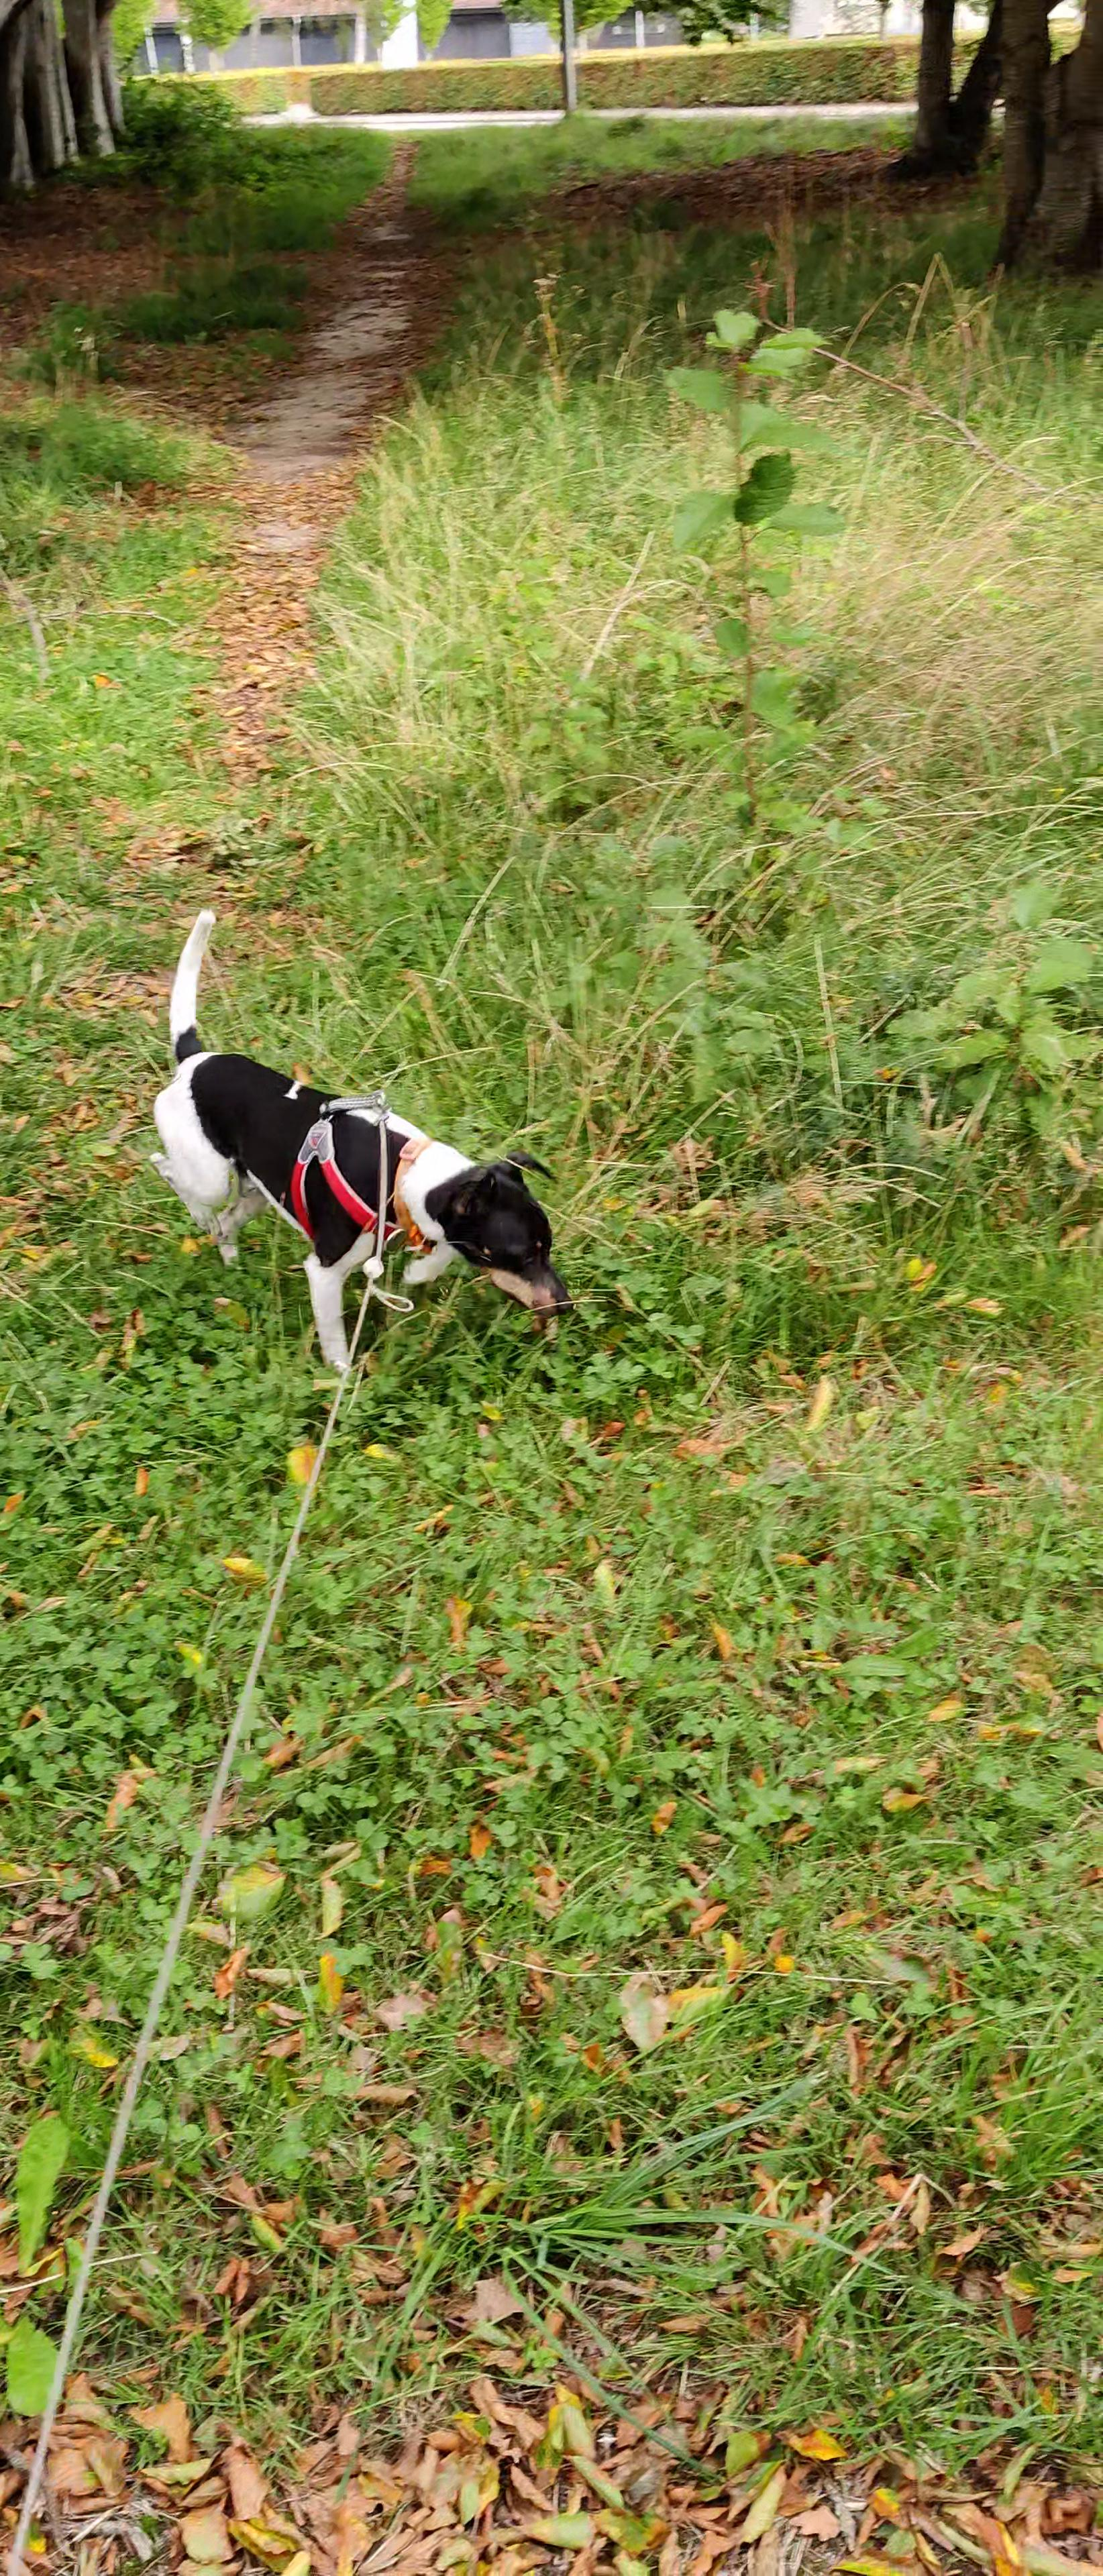Dog: (128, 894, 615, 1403)
